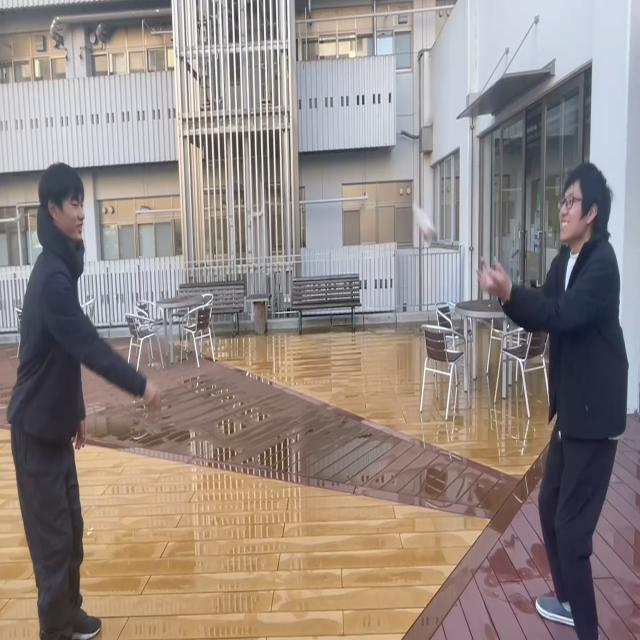bottle: (410, 200, 438, 248)
